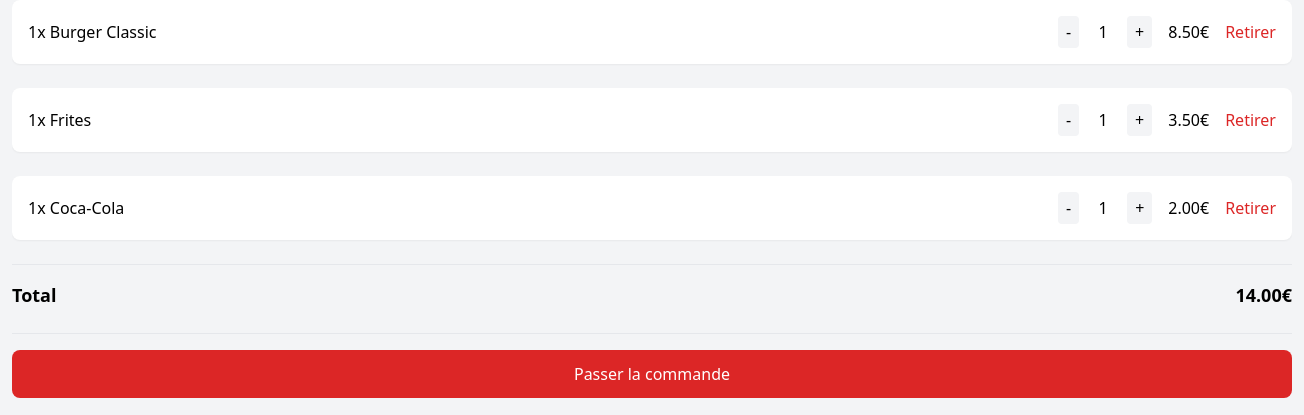
Test: Integration Cart + Promotions › applique la promotion boisson gratuite pour commande > 20€
Note: Augmente la quantité du burger pour dépasser 20€
Step 1. Click the button "+" next to "8.50" → (1140, 32), box [1127, 16, 1152, 48]
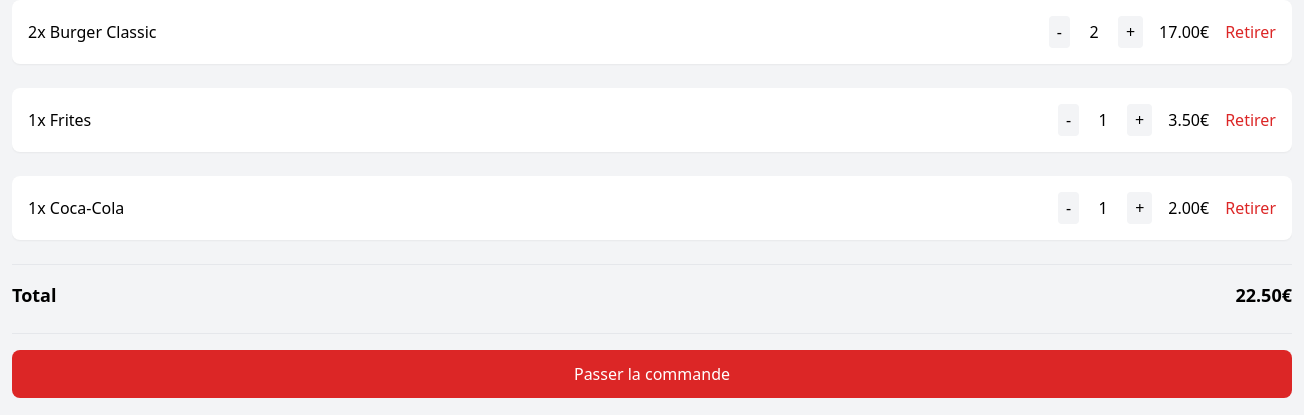
Step 2. Click the button "+" next to "17.00" → (1131, 32), box [1118, 16, 1143, 48]
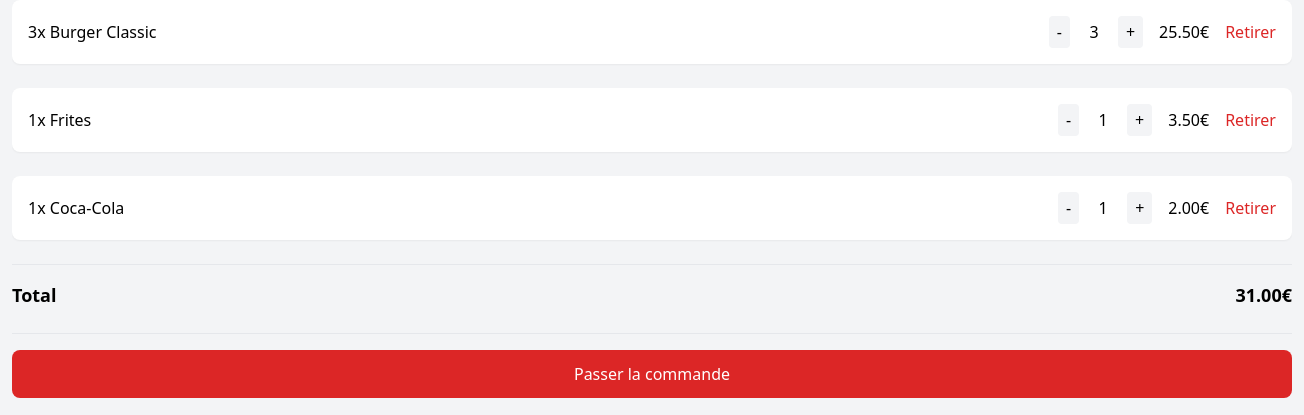
Expected: the text "31.00€" is shown, [1235, 281, 1292, 309]
